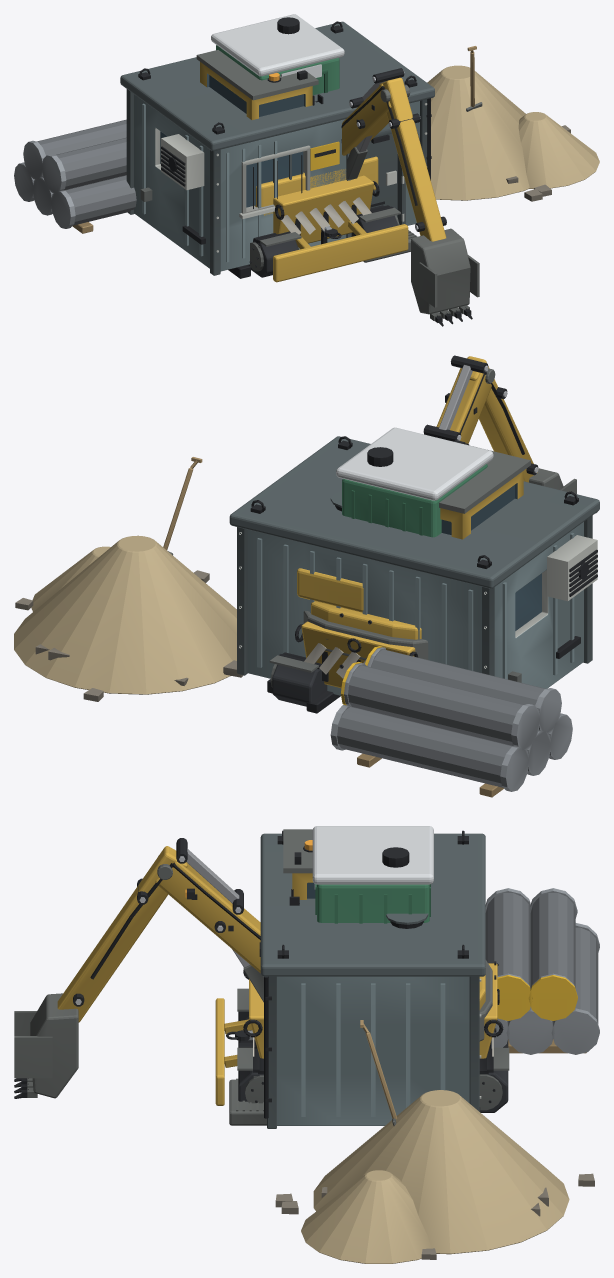
File: construction-props-near.glb
3 views of the same model, one above another, from view 1: azimuth 30°, elevation 25°; view 2: azimuth 150°, elevation 25°; view 3: azimuth 270°, elevation 25° (orthographic). The views are drawn at different scales.
Parts seen in each view (by area): view 1: SiteHut, Materials, Excavator, Portaloo, Skip; view 2: SiteHut, Materials, Excavator, Portaloo, Skip; view 3: SiteHut, Materials, Excavator, Portaloo, Skip.
Boxes of the visible parts, <box> form: SiteHut: <box>120,21,434,278</box>; Materials: <box>14,46,599,233</box>; Excavator: <box>196,50,479,326</box>; Portaloo: <box>211,14,344,95</box>; Skip: <box>273,175,379,243</box>; SiteHut: <box>229,436,599,695</box>; Materials: <box>14,457,572,797</box>; Excavator: <box>269,355,576,706</box>; Portaloo: <box>336,427,493,537</box>; Skip: <box>295,621,418,713</box>; SiteHut: <box>229,830,485,1128</box>; Materials: <box>275,888,599,1263</box>; Excavator: <box>14,829,509,1112</box>; Portaloo: <box>312,826,433,923</box>; Skip: <box>238,963,508,1058</box>.
Bounding box in the file's own units: 6.06 × 2.45 × 5.21.
